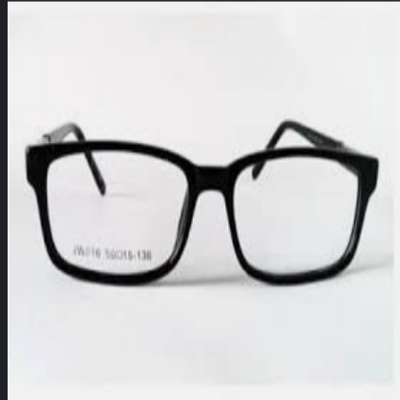glasses: (25, 118, 383, 292)
